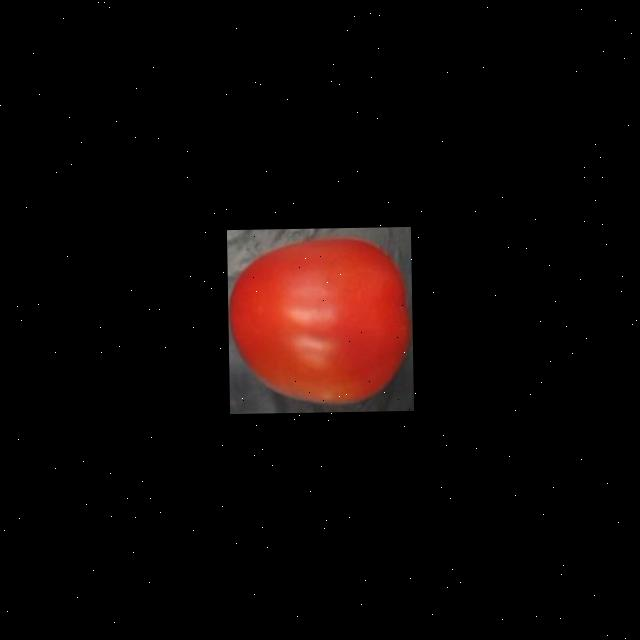tomato: (227, 237, 413, 408)
